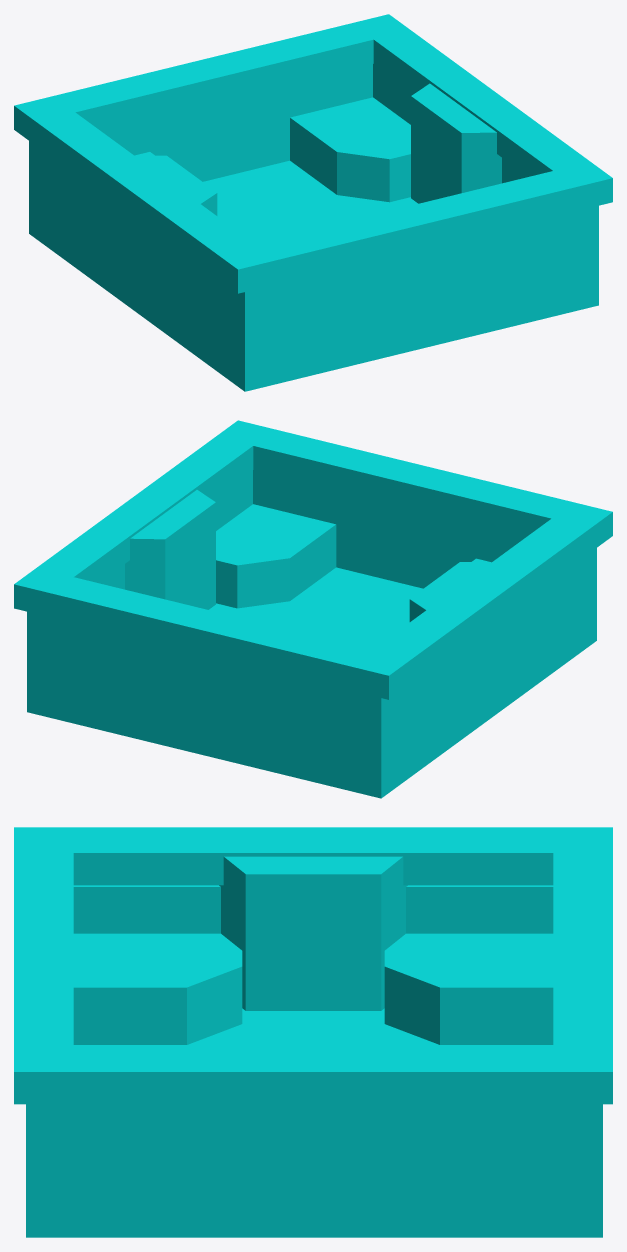
File: SM_Prop_Spa_01_Collision.fbx
3 views of the same model, one above another, from view 1: azimuth 30°, elevation 25°; view 2: azimuth 150°, elevation 25°; view 3: azimuth 270°, elevation 25° (orthographic). The views are drawn at different scales.
Visible parts, largest first — view 1: SM_Prop_Spa_01_Collision; view 2: SM_Prop_Spa_01_Collision; view 3: SM_Prop_Spa_01_Collision.
Part boxes in pixels (x1,y1,x2,y2): SM_Prop_Spa_01_Collision: [14, 14, 612, 391]; SM_Prop_Spa_01_Collision: [14, 420, 612, 798]; SM_Prop_Spa_01_Collision: [14, 827, 612, 1237].
Bounding box in the file's own units: 283 × 92.45 × 293.
